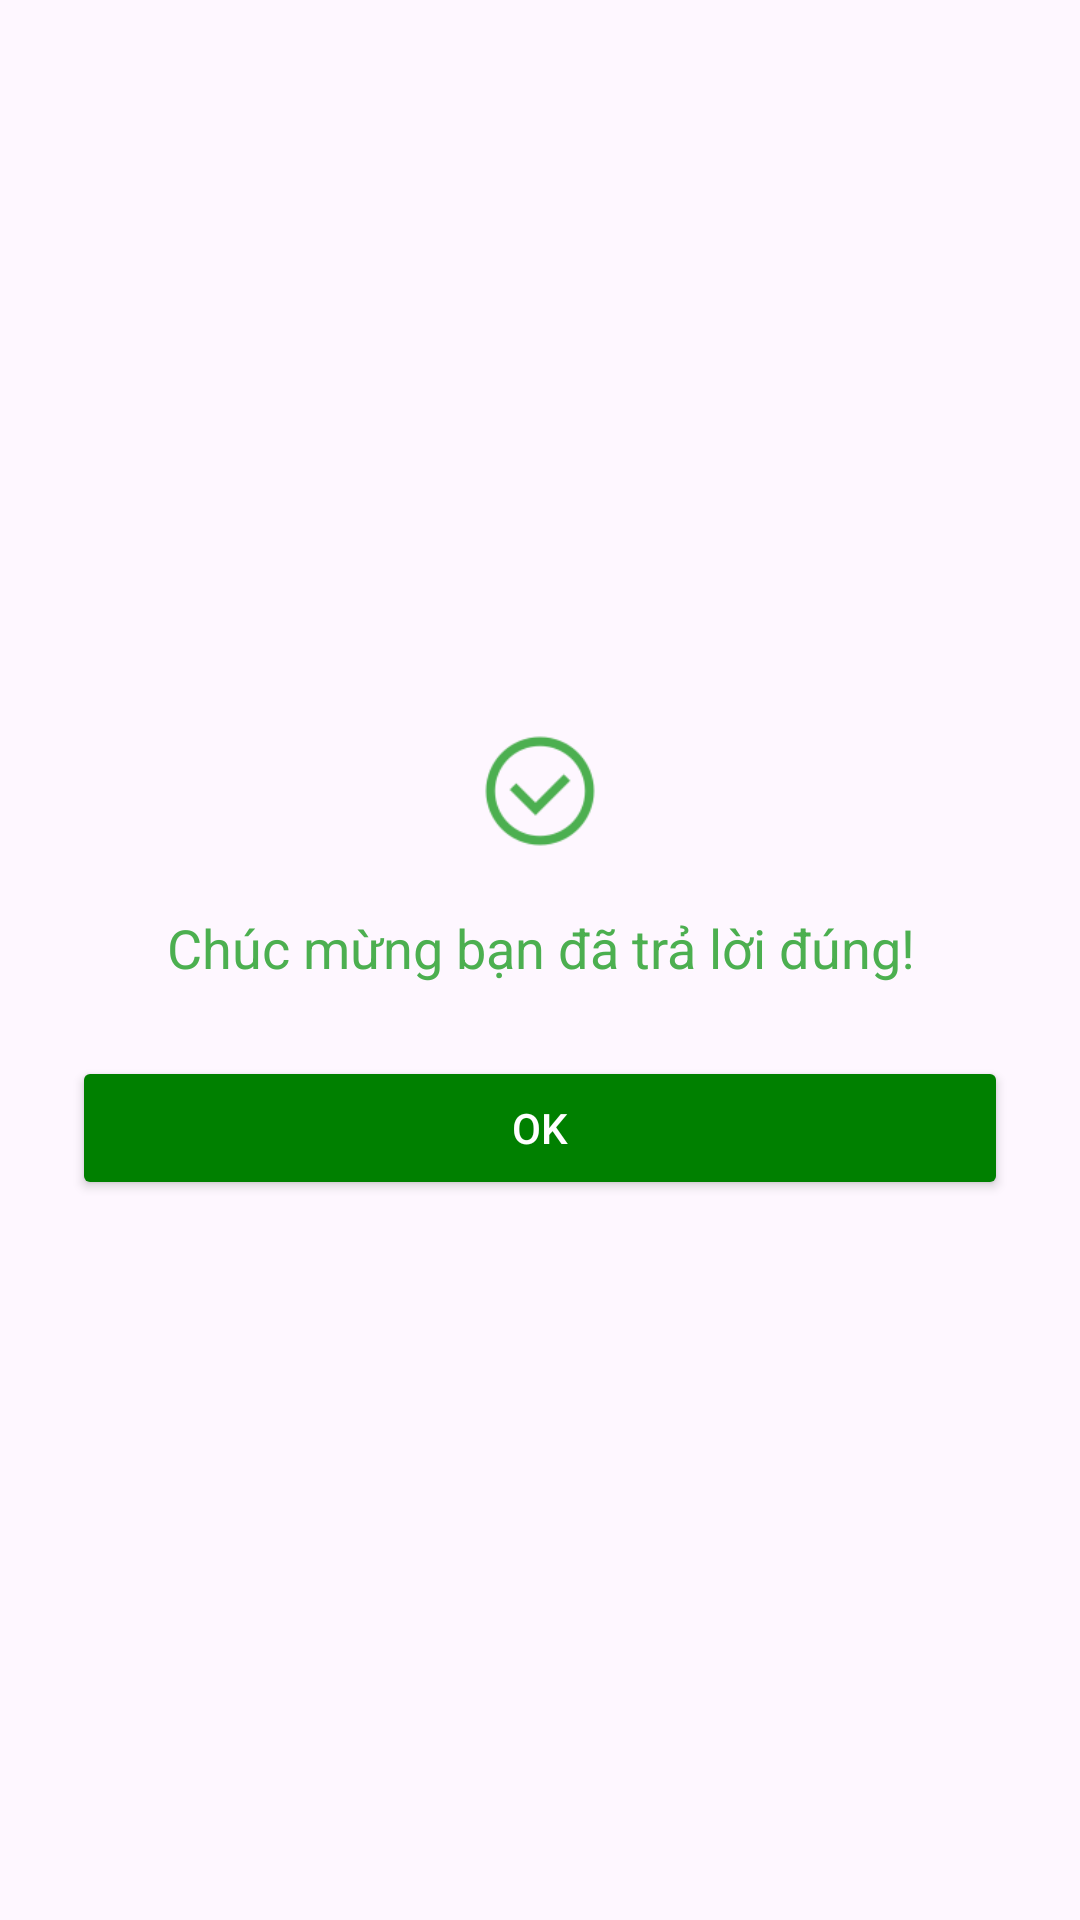

Where icons sit on this 1080w x 1920h app screen, as (x1, y1, x2, y2):
correct: (485, 736, 595, 846)
